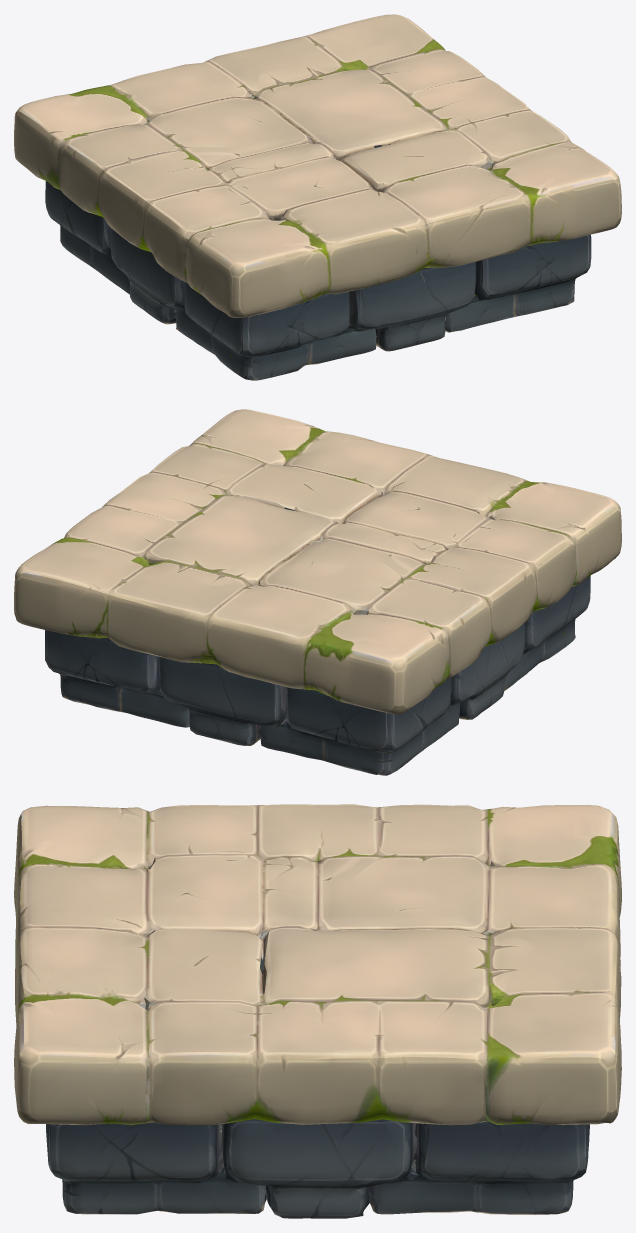
File: VD_Platform_Square_01-0.fbx
The picture shows the model from 3 angles, top to bottom: view 1: azimuth 30°, elevation 25°; view 2: azimuth 150°, elevation 25°; view 3: azimuth 270°, elevation 25°; orthographic projection. The views are drawn at different scales.
Visible parts, largest first — view 1: Mesh0; view 2: Mesh0; view 3: Mesh0.
Part boxes in pixels (x1=…): Mesh0: x1=14, y1=14, x2=621, y2=380; Mesh0: x1=14, y1=409, x2=621, y2=775; Mesh0: x1=14, y1=804, x2=621, y2=1218.
Bounding box in the file's own units: 295 × 100 × 295.
1 material, 1 textured.
